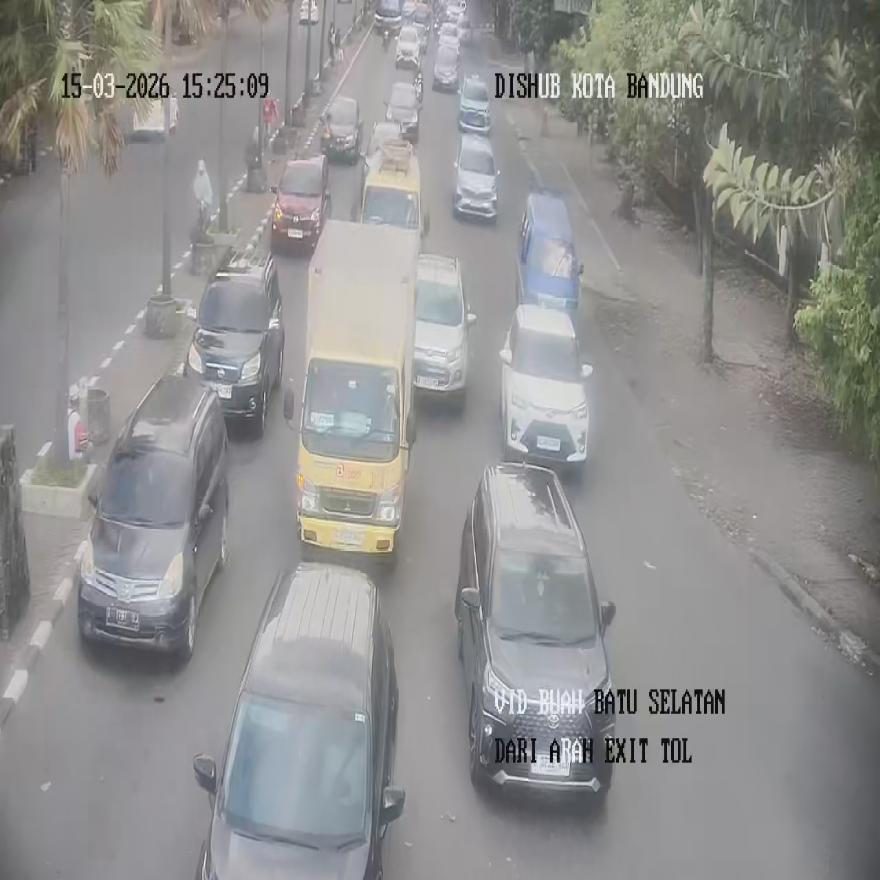Mobil: (192, 562, 404, 878), (454, 463, 615, 798), (77, 375, 229, 661), (186, 250, 284, 431), (498, 304, 592, 468), (413, 253, 476, 401), (516, 188, 583, 319), (359, 140, 429, 256), (271, 154, 331, 252), (452, 132, 499, 219), (321, 96, 363, 164), (456, 72, 490, 133)
Truk ringan: (283, 220, 417, 555)
